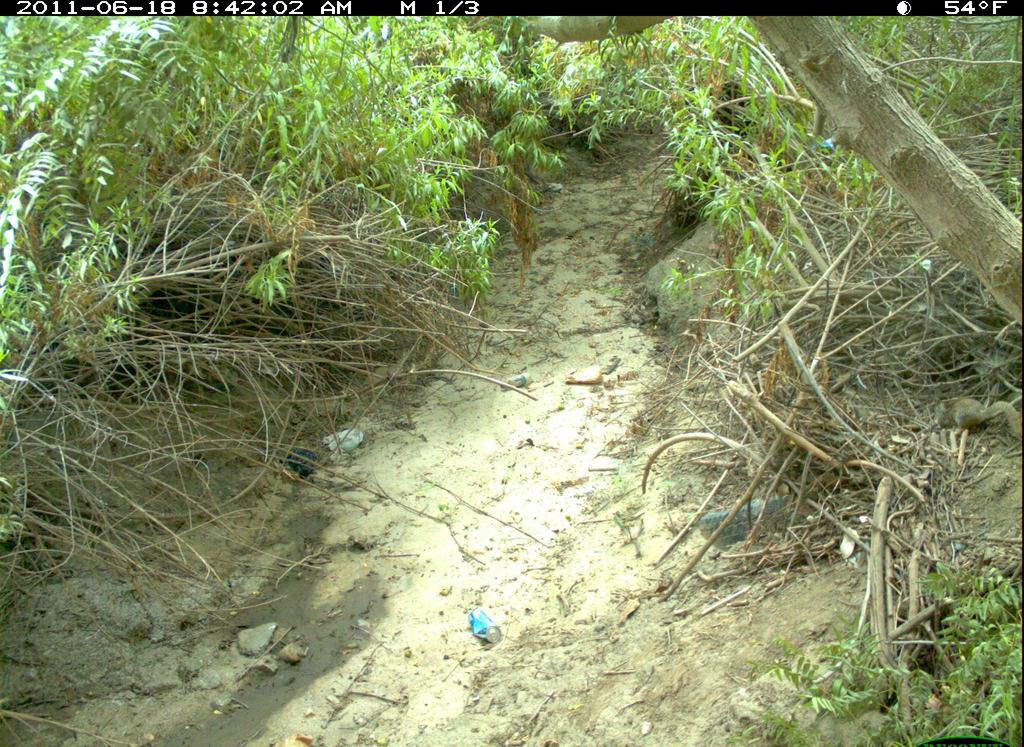squirrel: (931, 381, 1022, 446)
